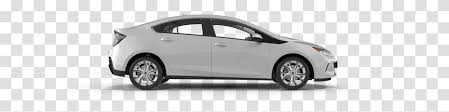wheel: (275, 56, 311, 90)
